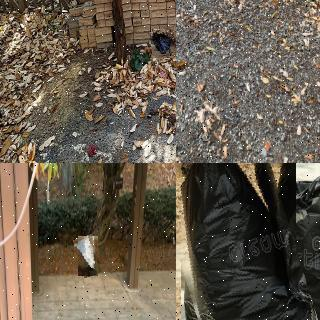Garbage: (176, 163, 312, 320), (276, 168, 320, 320), (76, 235, 101, 277), (150, 28, 176, 59)
